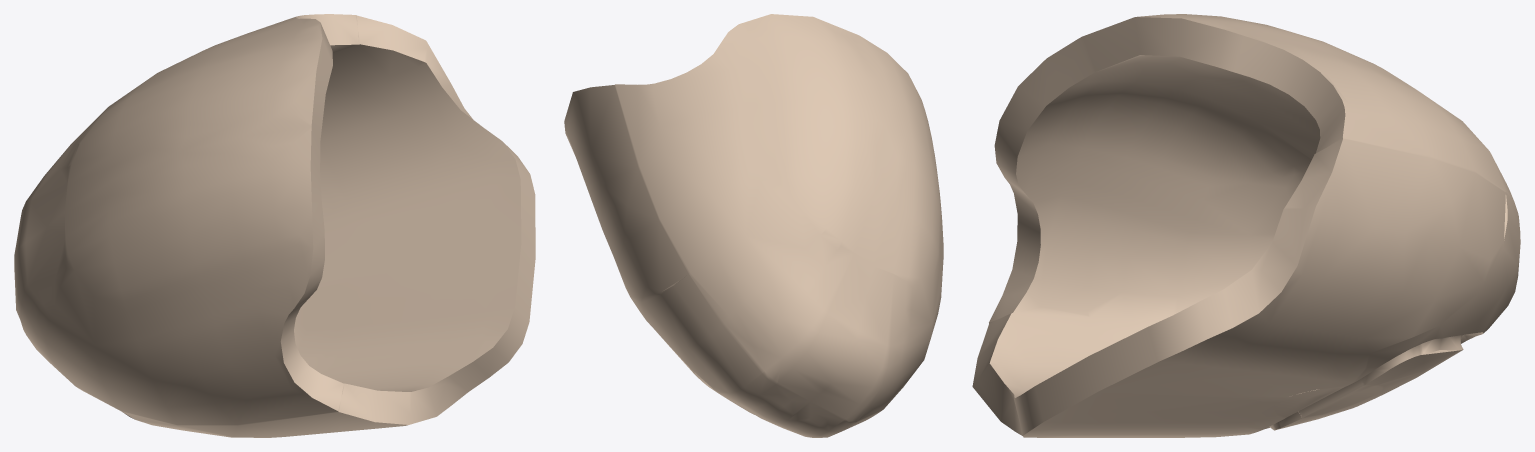
Rendered from l_hand_TD_0.obj.
The picture shows the model from 3 angles, left to right: view 1: azimuth 30°, elevation 25°; view 2: azimuth 150°, elevation 25°; view 3: azimuth 270°, elevation 25°; orthographic projection. The views are drawn at different scales.
Bounding box in the file's own units: 29.56 × 25.72 × 28.61.
